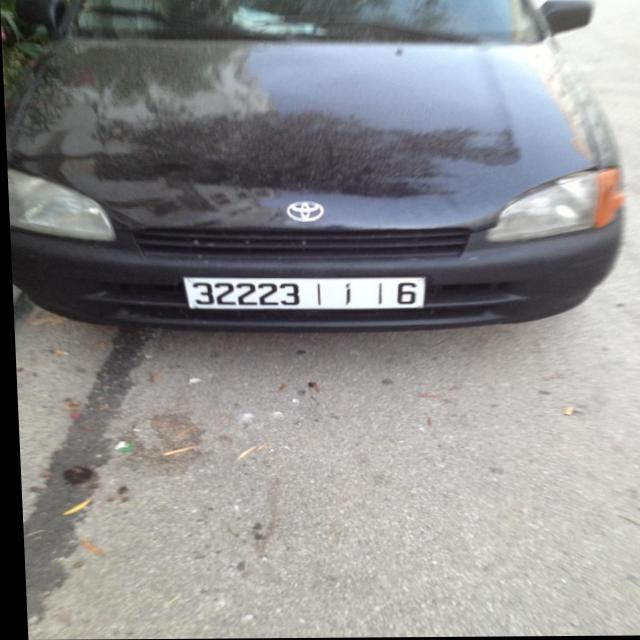License-Plate: (181, 278, 423, 310)
